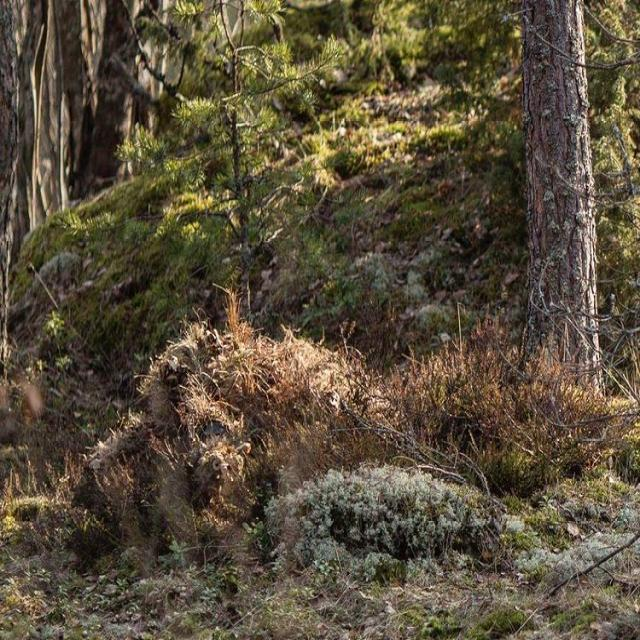Camouflage: (70, 326, 424, 564)
